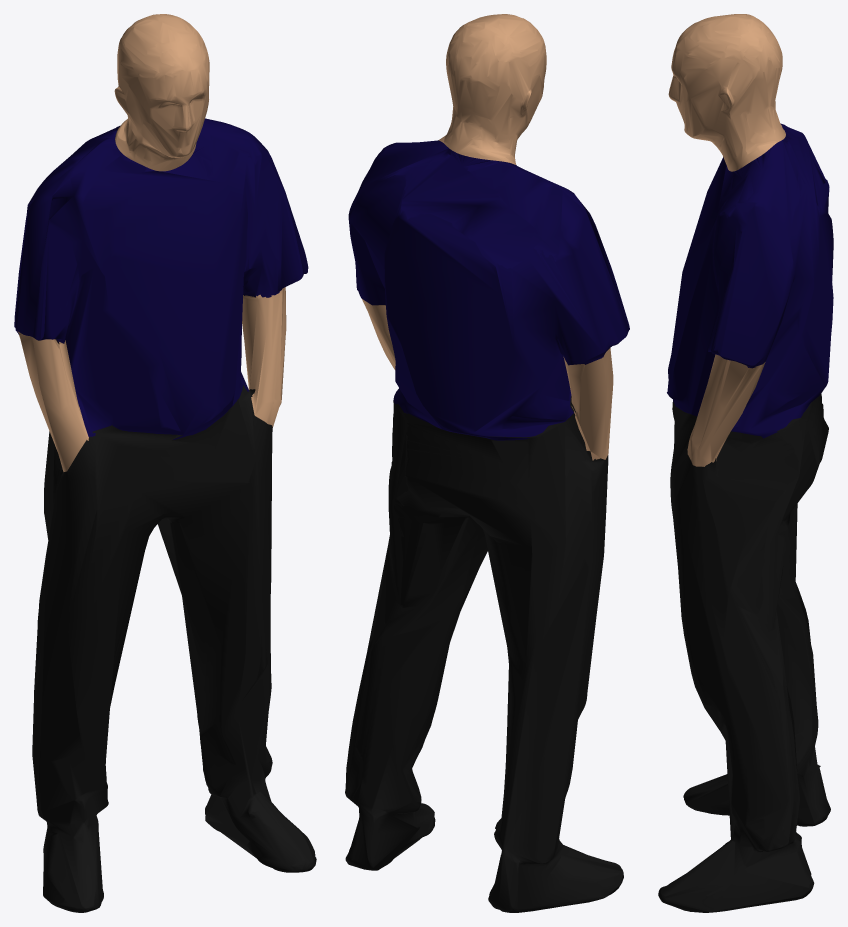
File: Guy.glb
3 renders of one model, left to right at view 1: azimuth 30°, elevation 25°; view 2: azimuth 150°, elevation 25°; view 3: azimuth 270°, elevation 25°, orthographic. The views are drawn at different scales.
Parts seen in each view (by area): view 1: Lowpoly Male Standing.001; view 2: Lowpoly Male Standing.001; view 3: Lowpoly Male Standing.001.
Boxes of the visible parts, x1,y1,x2,y2 form: Lowpoly Male Standing.001: (14, 14, 316, 912); Lowpoly Male Standing.001: (345, 14, 629, 912); Lowpoly Male Standing.001: (658, 14, 833, 912).
Size of the model in its own units: 0.961 by 2.86 by 0.5457.
